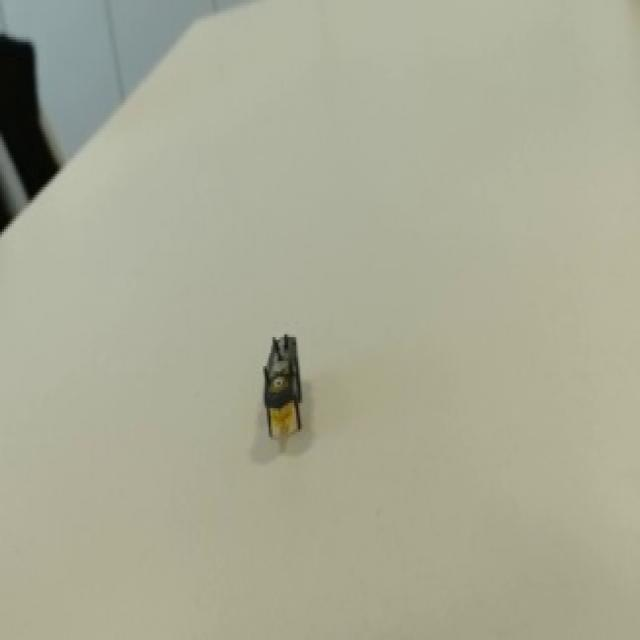6_NanoBug_GrisOscuro: (232, 304, 330, 460)
